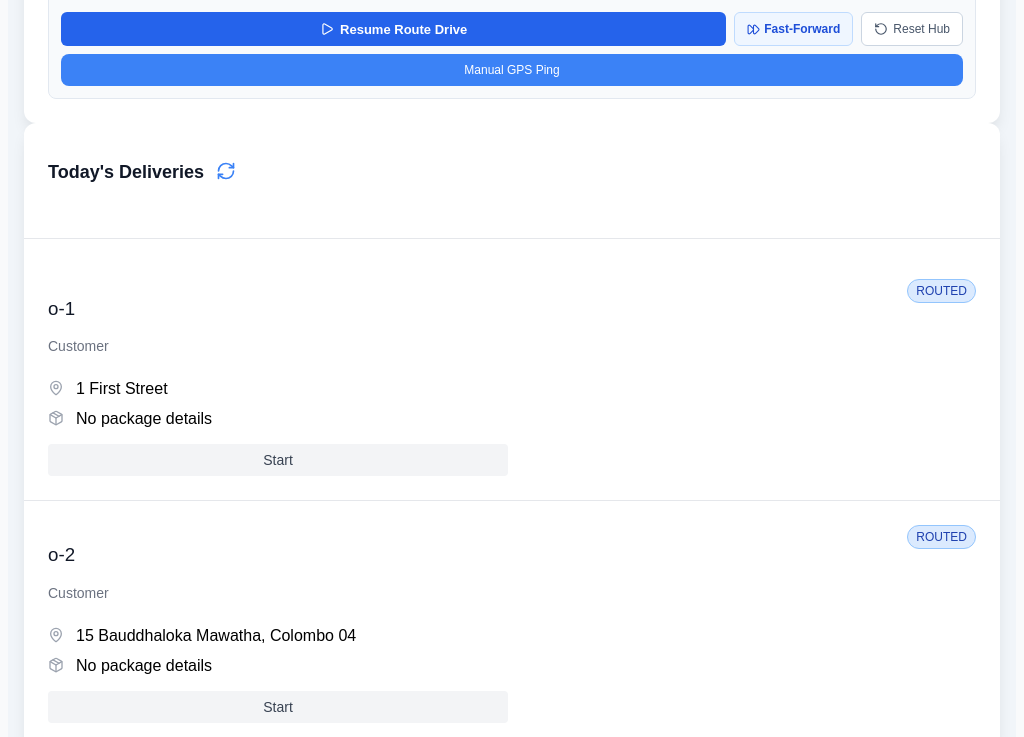
Scenario: driver delivery flow › a rejected start is reported to the driver and does not start the simulator
(page scrolled)
What coordinates should you click on to do the following:
click the 1st button "Start"
I would click on:
 (278, 460)
Its box is left=48, top=444, right=508, bottom=476.
Wait 4000 ms
(page scrolled)
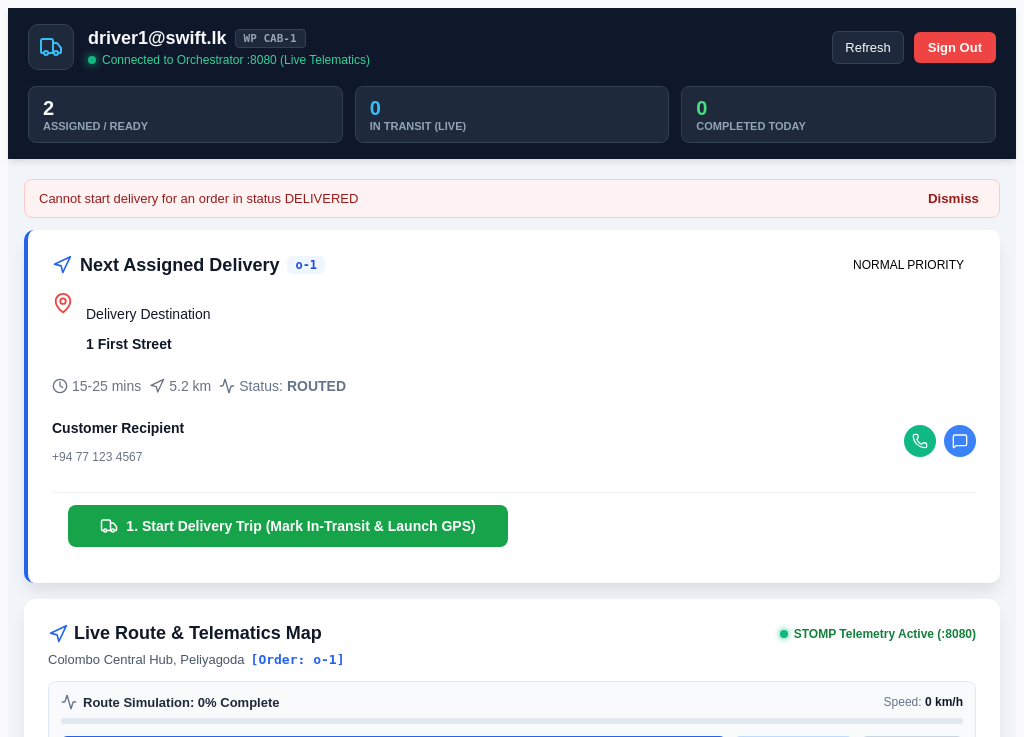
Now the message shows "status DELIVERED", box left=39, top=191, right=358, bottom=206
